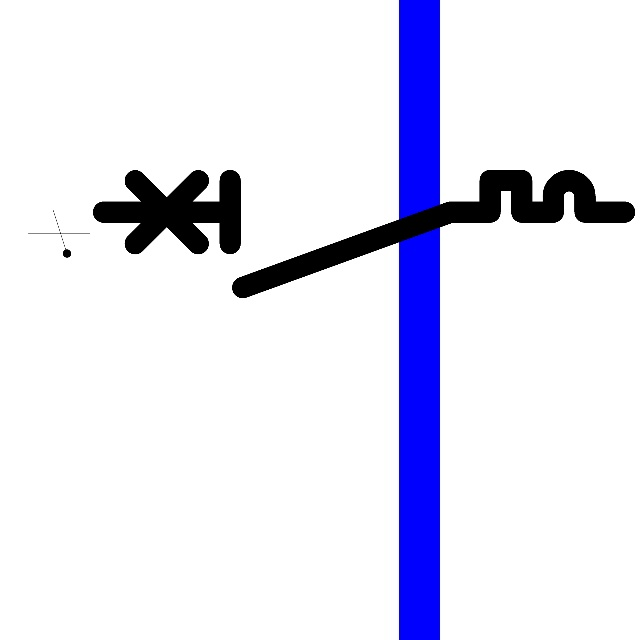interruptor_termomagnetico: (90, 167, 638, 301)
